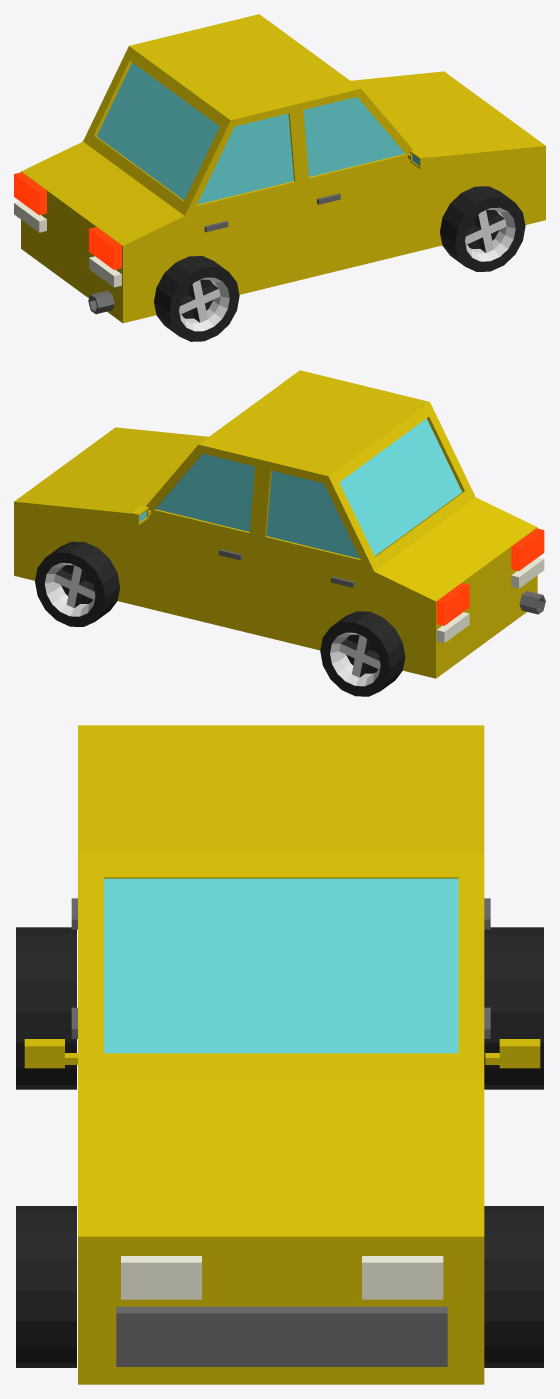
File: car.fbx
3 views of the same model, one above another, from view 1: azimuth 30°, elevation 25°; view 2: azimuth 150°, elevation 25°; view 3: azimuth 270°, elevation 25° (orthographic). The views are drawn at different scales.
Parts seen in each view (by area): view 1: Cube, Cylinder.003, Cylinder.002; view 2: Cube, Cylinder.001, Cylinder; view 3: Cube, Cylinder.002, Cylinder, Cylinder.003, Cylinder.001.
Part boxes in pixels (x1=…): Cube: x1=14, y1=14, x2=545, y2=323; Cylinder.003: x1=154, y1=256, x2=239, y2=341; Cylinder.002: x1=440, y1=186, x2=525, y2=271; Cube: x1=14, y1=370, x2=545, y2=678; Cylinder.001: x1=320, y1=611, x2=405, y2=696; Cylinder: x1=35, y1=541, x2=119, y2=626; Cube: x1=24, y1=725, x2=540, y2=1384; Cylinder.002: x1=16, y1=1206, x2=76, y2=1367; Cylinder: x1=484, y1=1206, x2=543, y2=1367; Cylinder.003: x1=16, y1=927, x2=76, y2=1089; Cylinder.001: x1=484, y1=927, x2=543, y2=1089.
Bounding box in the file's own units: 507 × 216 × 260.
